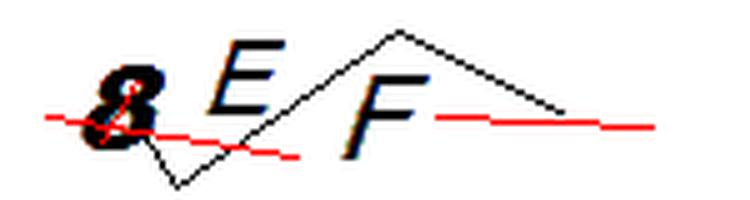8: (72, 50, 174, 156)
E: (199, 30, 300, 126)
F: (337, 61, 438, 166)
